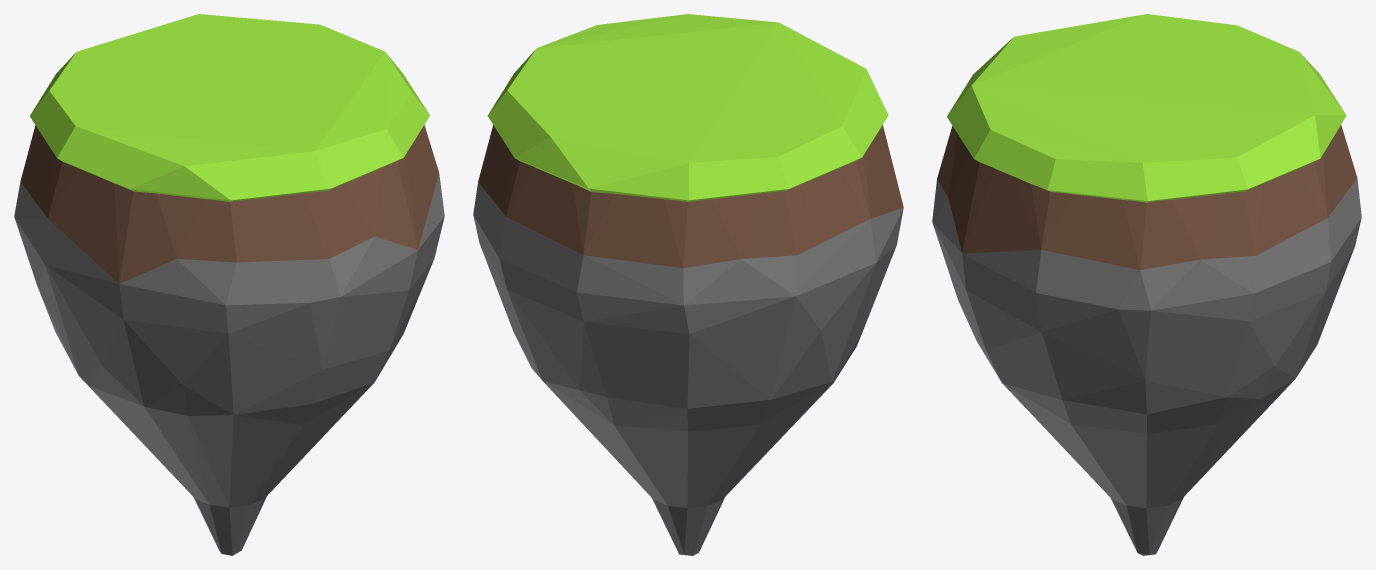
Rendered from islandMap.gltf.
The picture shows the model from 3 angles, left to right: view 1: azimuth 30°, elevation 25°; view 2: azimuth 150°, elevation 25°; view 3: azimuth 270°, elevation 25°; orthographic projection.
Parts seen in each view (by area): view 1: Cylinder, Cylinder.001; view 2: Cylinder, Cylinder.001; view 3: Cylinder, Cylinder.001.
Part boxes in pixels (bbox=[...]): Cylinder: bbox=[14, 125, 444, 555]; Cylinder.001: bbox=[30, 14, 429, 201]; Cylinder: bbox=[473, 125, 903, 555]; Cylinder.001: bbox=[487, 14, 888, 202]; Cylinder: bbox=[932, 125, 1361, 555]; Cylinder.001: bbox=[947, 14, 1346, 202].
Bounding box in the file's own units: 46.67 × 55.86 × 46.67.
